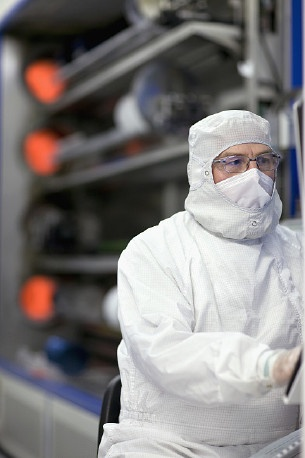Mask: (203, 146, 279, 222)
